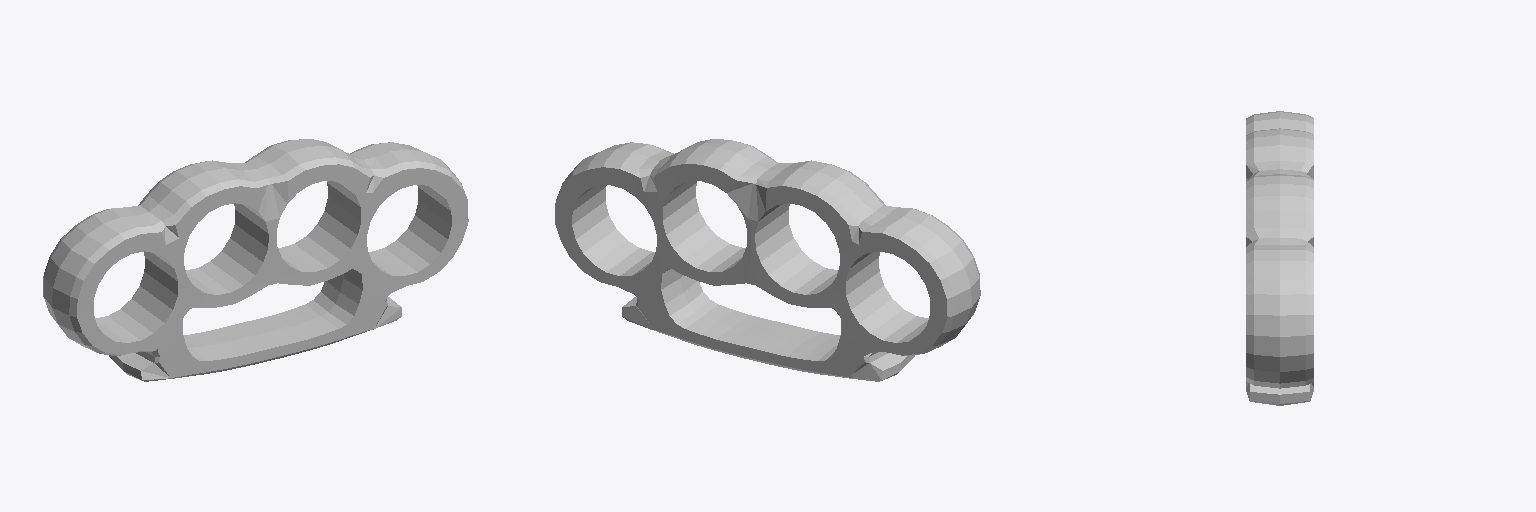
The model's file is Brass_Knuckles.obj.
3 views of the same model, side by side, from view 1: azimuth 30°, elevation 25°; view 2: azimuth 150°, elevation 25°; view 3: azimuth 270°, elevation 25° (orthographic).
Parts seen in each view (by area): view 1: Knuckles; view 2: Knuckles; view 3: Knuckles.
Boxes of the visible parts, x1=… form: Knuckles: x1=43, y1=139, x2=468, y2=381; Knuckles: x1=555, y1=139, x2=980, y2=381; Knuckles: x1=1246, y1=111, x2=1313, y2=405.
Size of the model in its own units: 11.33 by 5.13 by 1.62.